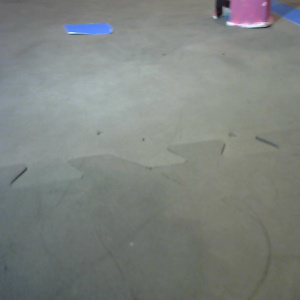right: (210, 1, 276, 31)
